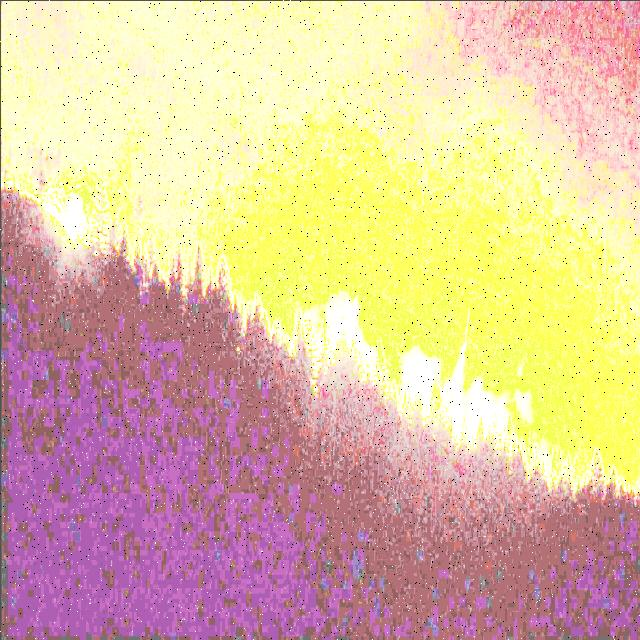api: (37, 163, 96, 245), (464, 365, 493, 441), (326, 294, 360, 354), (403, 355, 435, 406)
asap: (173, 1, 640, 495), (91, 102, 155, 237)
